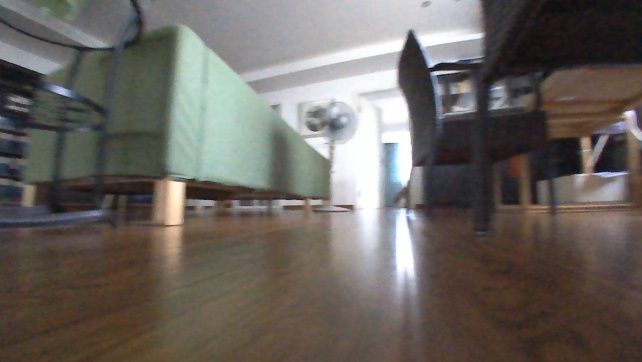dining_table1: (387, 0, 641, 237)
sofa1: (21, 25, 331, 231)
